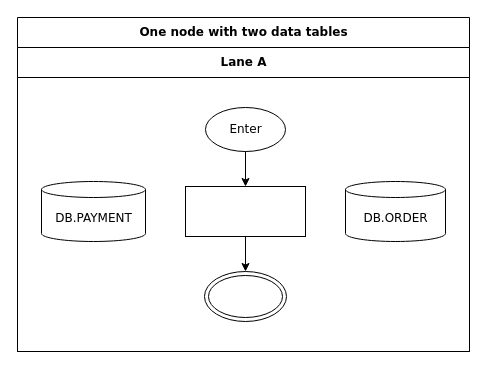
The diagram is 487 pixels wide and 369 high, and some of its shapes have lost their labels. The box of each missing label's shape, as (x1, y1, x2, y2) in pixels:
Done: (204, 270, 286, 322)
Reconcile: (184, 186, 306, 236)
